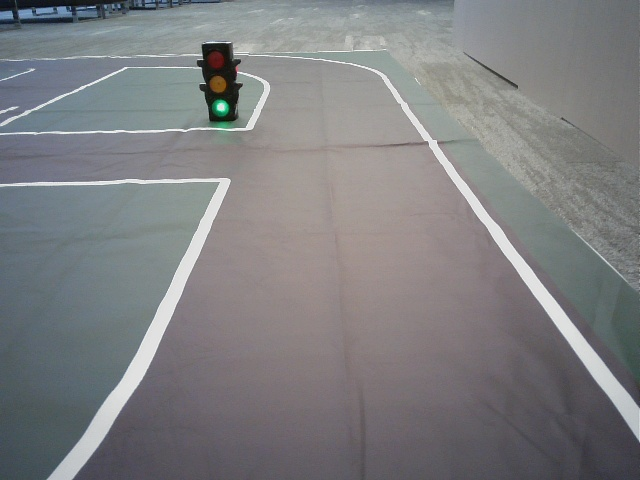green: (204, 44, 233, 118)
